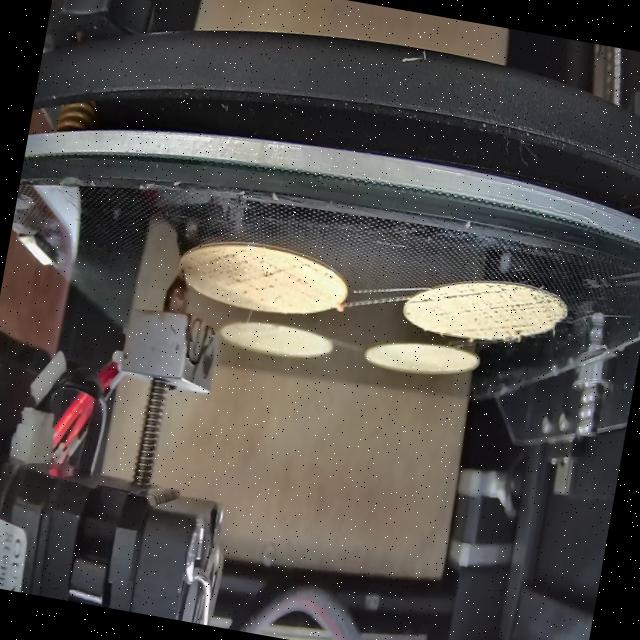under_extrusion: (183, 233, 336, 304), (430, 270, 566, 340), (406, 292, 433, 314)
